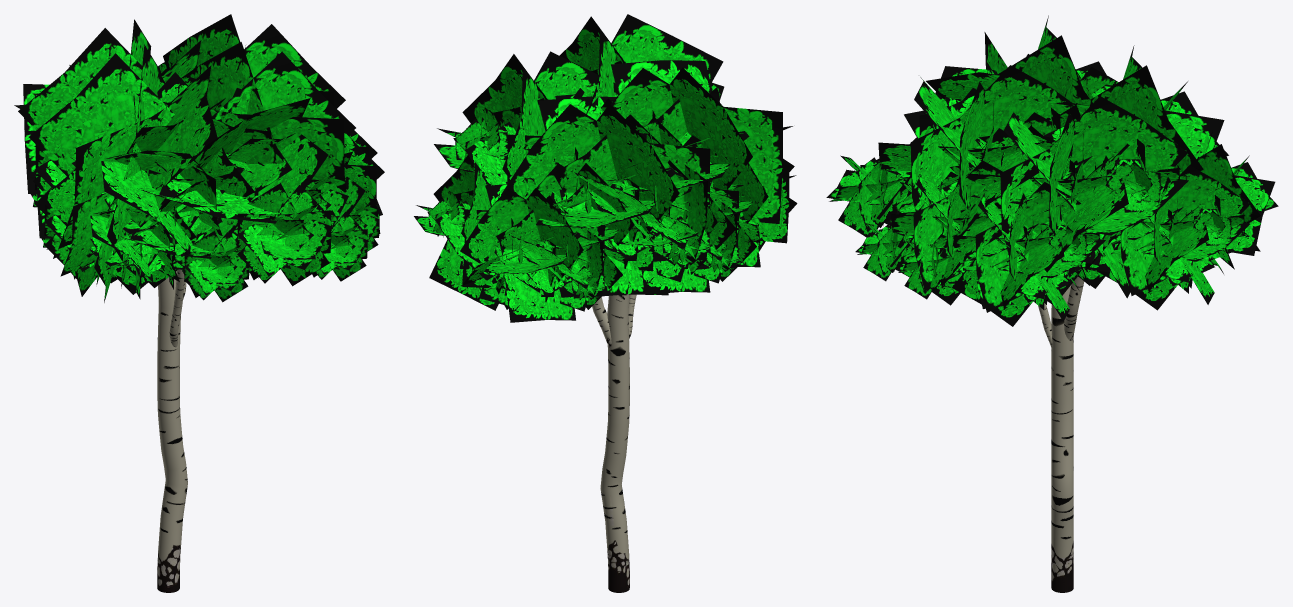
File: SkinnyWoodTree.fbx
3 renders of one model, left to right at view 1: azimuth 30°, elevation 25°; view 2: azimuth 150°, elevation 25°; view 3: azimuth 270°, elevation 25°, orthographic. The views are drawn at different scales.
Visible parts, largest first — view 1: Object054; view 2: Object054; view 3: Object054.
Part boxes in pixels (x1,y1,x2,y2): Object054: (14, 14, 384, 592); Object054: (414, 14, 797, 592); Object054: (826, 15, 1278, 592).
Size of the model in its own units: 327 by 533 by 401.
2 materials, 2 textured.
